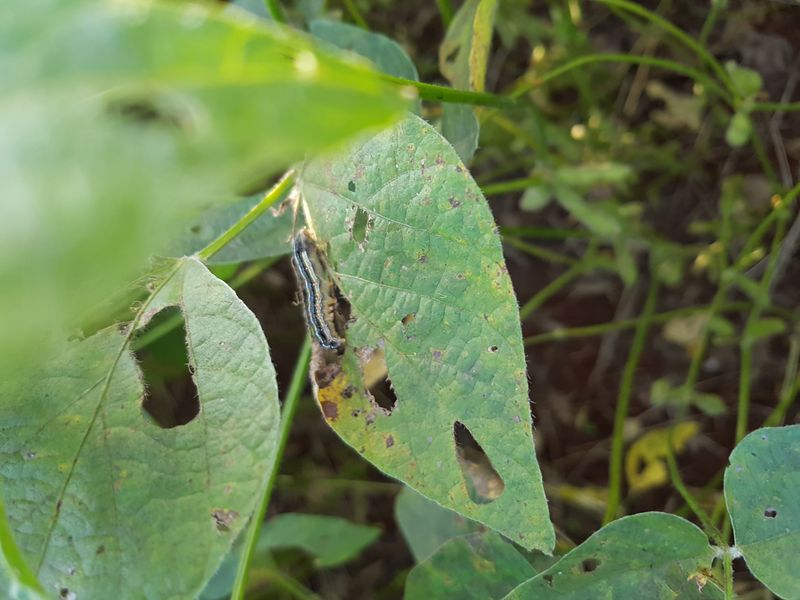Spodoptera_albula: (253, 219, 375, 361)
